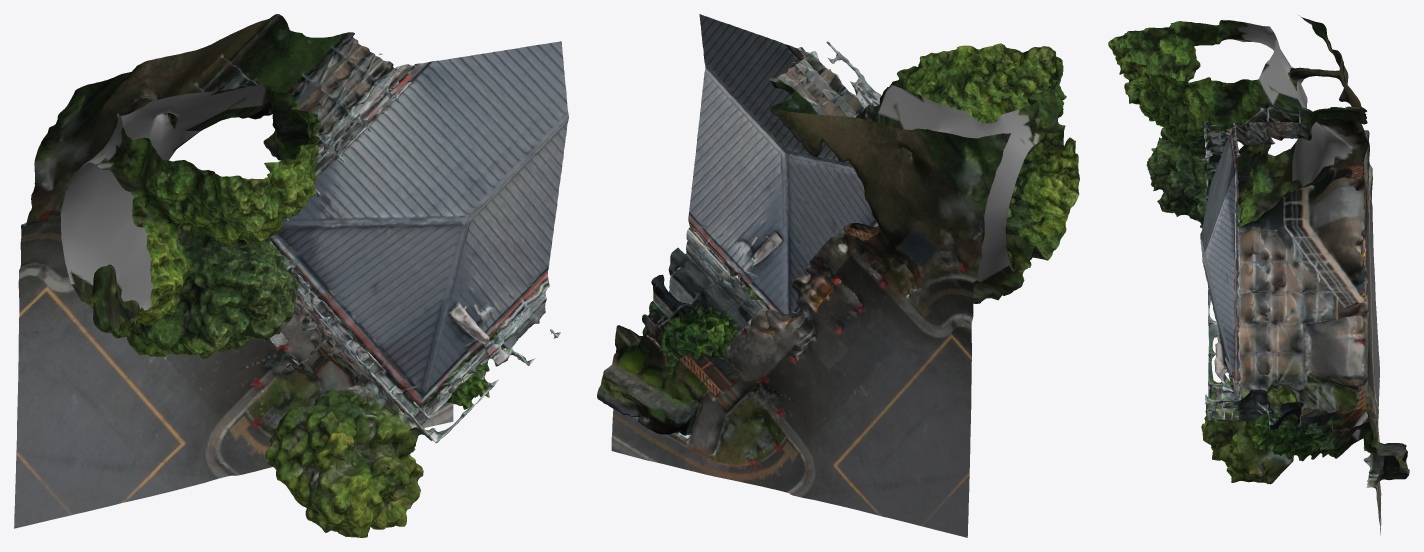
File: Tile_+008_+010.fbx
3 views of the same model, side by side, from view 1: azimuth 30°, elevation 25°; view 2: azimuth 150°, elevation 25°; view 3: azimuth 270°, elevation 25° (orthographic). The views are drawn at different scales.
Parts seen in each view (by area): view 1: DefaultName; view 2: DefaultName; view 3: DefaultName.
Part boxes in pixels (box(x1,y1,x2,y2)): DefaultName: box(14, 14, 568, 537); DefaultName: box(597, 14, 1079, 537); DefaultName: box(1108, 15, 1409, 535).
Size of the model in its own units: 22.54 by 22.54 by 17.23.
